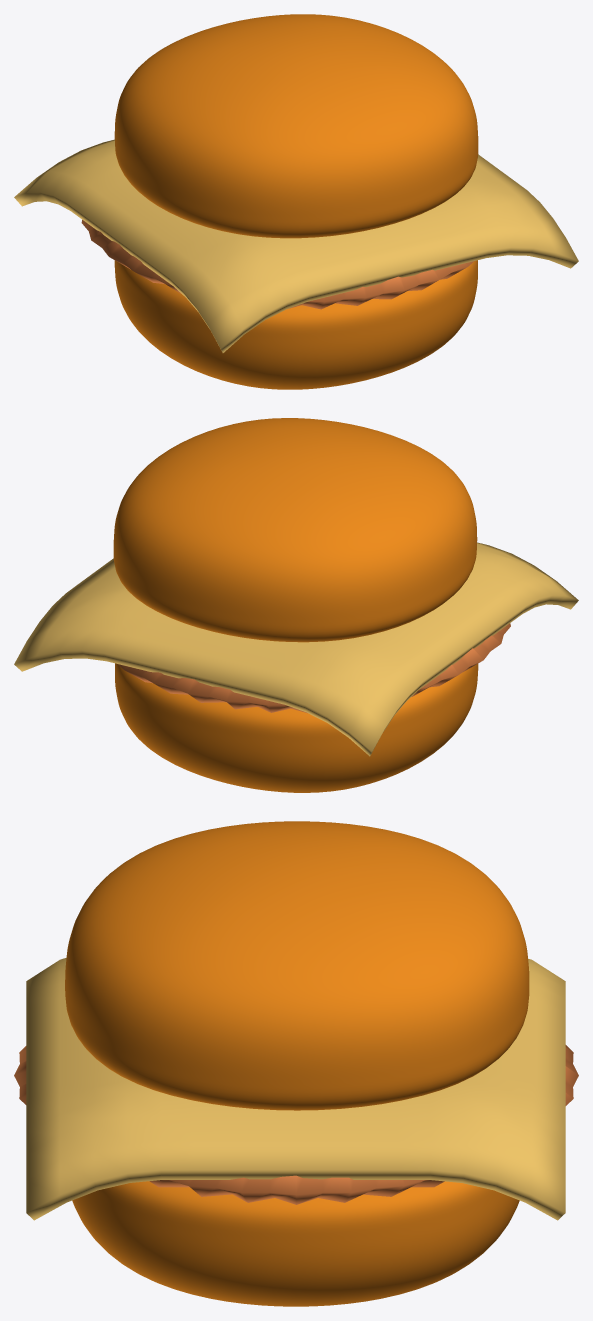
Rendered from hamburger.gltf.
3 renders of one model, top to bottom at view 1: azimuth 30°, elevation 25°; view 2: azimuth 150°, elevation 25°; view 3: azimuth 270°, elevation 25°, orthographic. The views are drawn at different scales.
Visible parts, largest first — view 1: Cube.001, Plane, Cube, Cylinder; view 2: Cube.001, Plane, Cube, Cylinder; view 3: Cube.001, Plane, Cube, Cylinder.
Boxes of the visible parts, <box> form: Cube.001: <box>114,14,478,238</box>; Plane: <box>14,139,578,352</box>; Cube: <box>114,260,477,389</box>; Cylinder: <box>81,220,474,309</box>; Cube.001: <box>113,418,477,642</box>; Plane: <box>14,542,578,756</box>; Cube: <box>115,663,478,792</box>; Cylinder: <box>118,623,510,713</box>; Cube.001: <box>65,821,529,1110</box>; Plane: <box>26,957,565,1220</box>; Cube: <box>72,1181,519,1306</box>; Cylinder: <box>14,1045,578,1204</box>.
Size of the model in its own units: 11.25 by 8.83 by 11.25.
